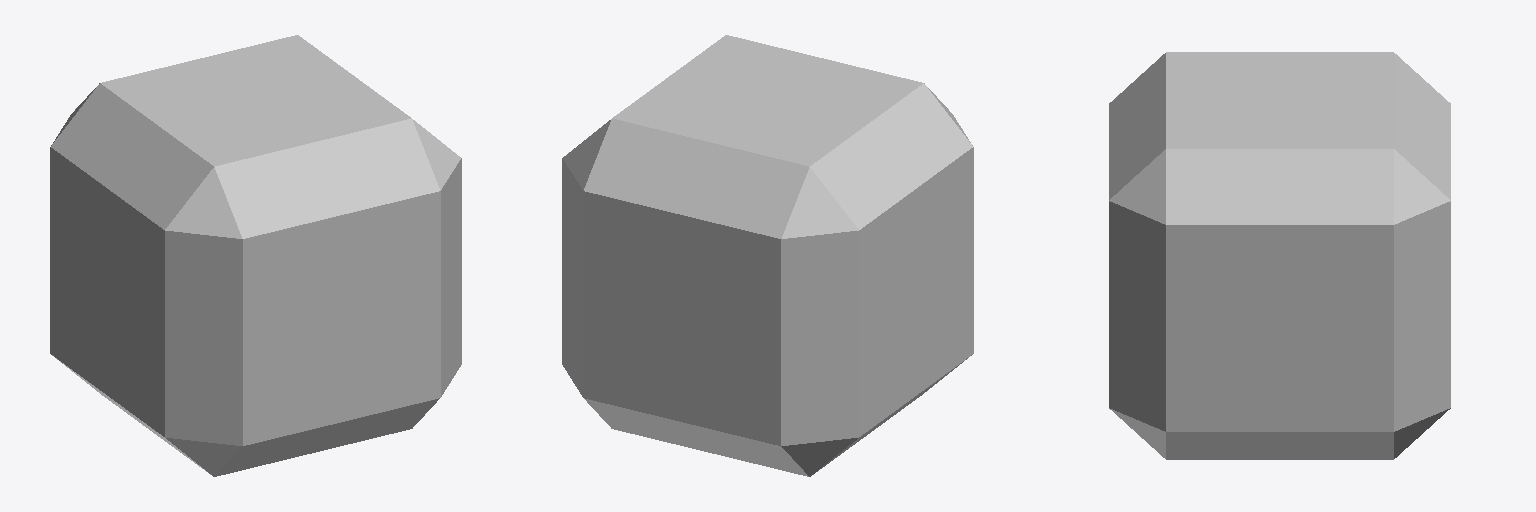
The model's file is pipe_center.obj.
The picture shows the model from 3 angles: view 1: azimuth 30°, elevation 25°; view 2: azimuth 150°, elevation 25°; view 3: azimuth 270°, elevation 25°; orthographic projection.
Parts seen in each view (by area): view 1: beveled_cuboid; view 2: beveled_cuboid; view 3: beveled_cuboid.
Part boxes in pixels (x1,y1,x2,y2): beveled_cuboid: (50, 35, 461, 476); beveled_cuboid: (562, 35, 973, 476); beveled_cuboid: (1109, 52, 1450, 459).
Bounding box in the file's own units: 0.375 × 0.375 × 0.375.